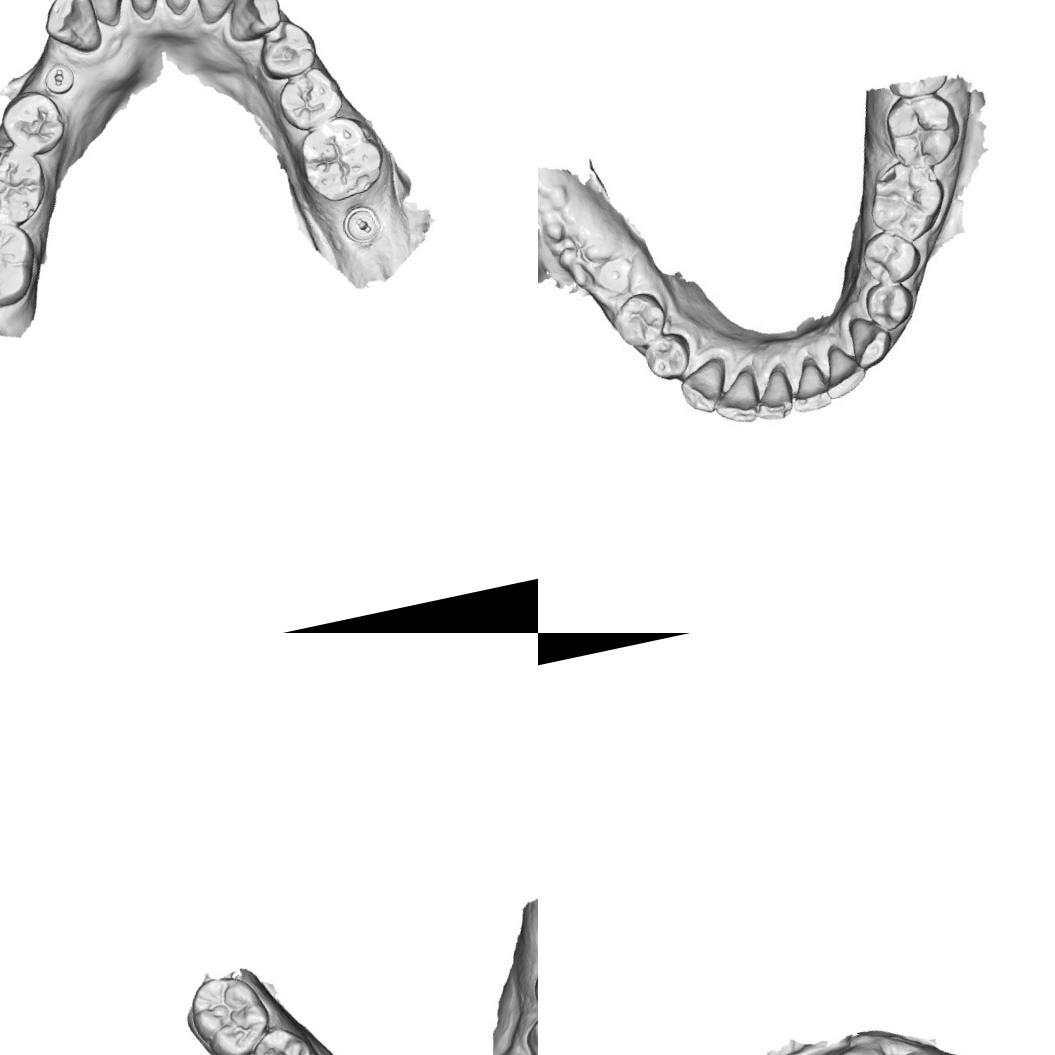canine: (34, 0, 106, 62), (674, 355, 732, 417), (217, 0, 287, 46), (846, 312, 892, 368)
implant_minus: (336, 197, 386, 247), (36, 53, 78, 100)
incisor: (708, 363, 763, 428), (781, 355, 838, 415), (818, 340, 868, 400), (749, 362, 797, 423), (69, 0, 130, 32), (187, 0, 253, 28), (153, 0, 211, 20), (114, 0, 170, 17)
molar: (293, 110, 391, 208), (179, 966, 279, 1055), (863, 151, 948, 246), (884, 88, 962, 171), (0, 134, 55, 236), (0, 210, 47, 317)
premolar: (272, 62, 347, 136), (0, 84, 71, 161), (251, 16, 323, 85), (856, 225, 924, 289), (608, 288, 673, 351), (860, 274, 922, 332), (636, 330, 696, 386), (242, 1022, 324, 1055)
